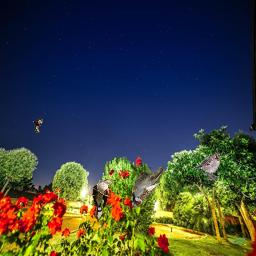Cuckoo: (92, 179, 116, 219)
Sparrow: (132, 167, 164, 207), (192, 153, 220, 180)
Woodpecker: (33, 118, 43, 133)
